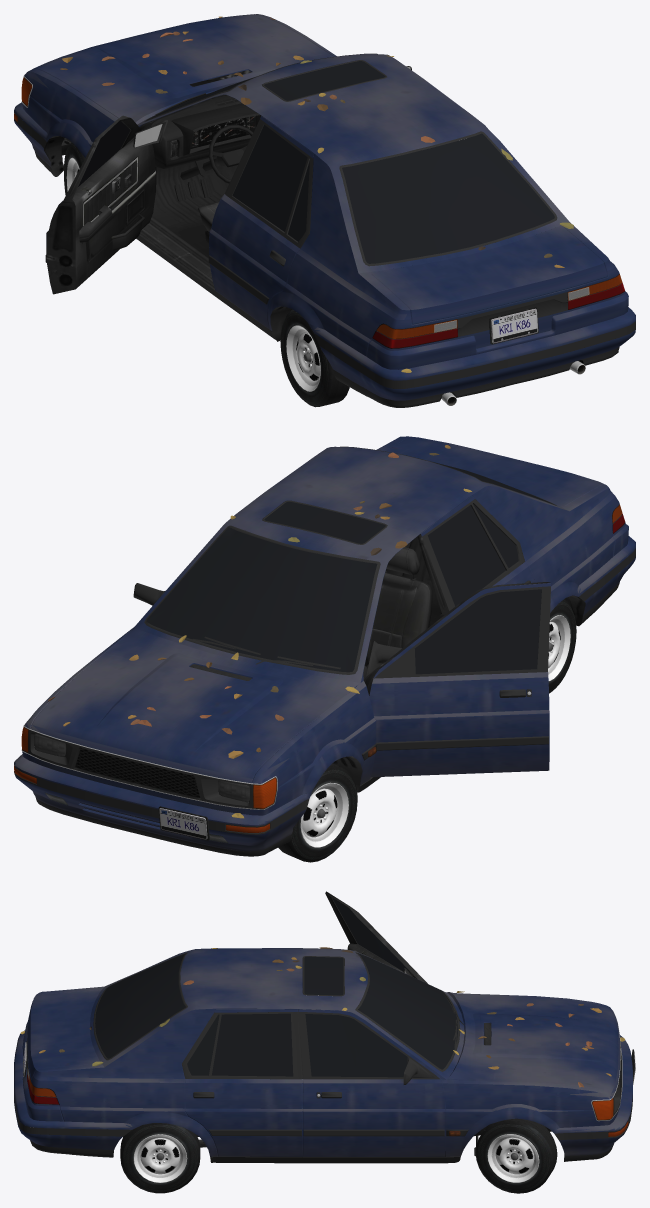
File: car.glb
3 renders of one model, top to bottom at view 1: azimuth 30°, elevation 25°; view 2: azimuth 150°, elevation 25°; view 3: azimuth 270°, elevation 25°, orthographic. The views are drawn at different scales.
Parts seen in each view (by area): view 1: LOD0.paint, LOD0.glass, LOD0.body, LOD0.cabin, LOD0.door.cabin, LOD0.wheel, LOD0.door.body, LOD0.lens, LOD0.reflector, LOD0.litter, LOD0.plate, LOD0.door.glass; view 2: LOD0.paint, LOD0.glass, LOD0.body, LOD0.door.paint, LOD0.door.glass, LOD0.wheel, LOD0.cabin, LOD0.door.body, LOD0.lens, LOD0.litter, LOD0.plate.front; view 3: LOD0.paint, LOD0.glass, LOD0.body, LOD0.wheel, LOD0.door.glass, LOD0.litter, LOD0.lens, LOD0.door.body, LOD0.door.cabin.
Boxes of the visible parts, x1,y1,x2,y2 form: LOD0.paint: (14,14,635,400); LOD0.glass: (148,61,554,263); LOD0.body: (14,53,635,407); LOD0.cabin: (142,95,260,257); LOD0.door.cabin: (72,117,156,288); LOD0.wheel: (64,142,349,407); LOD0.door.body: (45,115,131,294); LOD0.lens: (14,77,622,338); LOD0.reflector: (372,282,624,348); LOD0.litter: (60,16,573,372); LOD0.plate: (491,308,538,343); LOD0.door.glass: (78,121,130,186); LOD0.paint: (14,436,635,851); LOD0.glass: (147,462,553,672); LOD0.body: (14,446,635,856); LOD0.door.paint: (369,583,550,777); LOD0.door.glass: (414,589,541,674); LOD0.wheel: (278,599,576,862); LOD0.cabin: (363,500,476,680); LOD0.door.body: (364,582,550,750); LOD0.lens: (14,504,622,832); LOD0.litter: (47,445,471,818); LOD0.plate.front: (159,808,207,839); LOD0.paint: (14,948,632,1156); LOD0.glass: (95,953,458,1077); LOD0.body: (14,952,635,1163); LOD0.wheel: (120,1118,557,1193); LOD0.door.glass: (332,898,410,973); LOD0.litter: (20,947,624,1087); LOD0.lens: (27,1068,628,1136); LOD0.door.body: (325,891,427,983); LOD0.door.cabin: (325,893,416,978).
Size of what is drawn, in the model's own units: 2.64 by 1.42 by 4.62.
9 materials, 8 textured.
